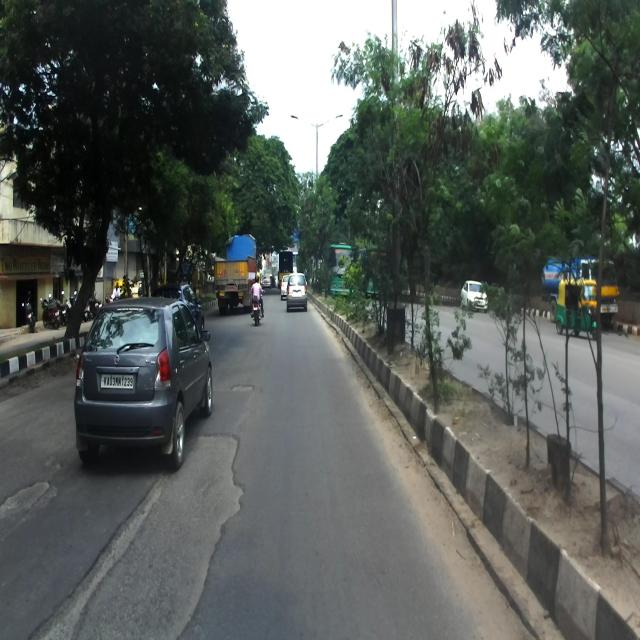autorickshaw: (555, 277, 601, 339)
bus: (316, 241, 358, 302), (354, 244, 391, 297)
car: (72, 296, 212, 470), (286, 272, 308, 312)
motorcycle: (249, 288, 265, 326)
